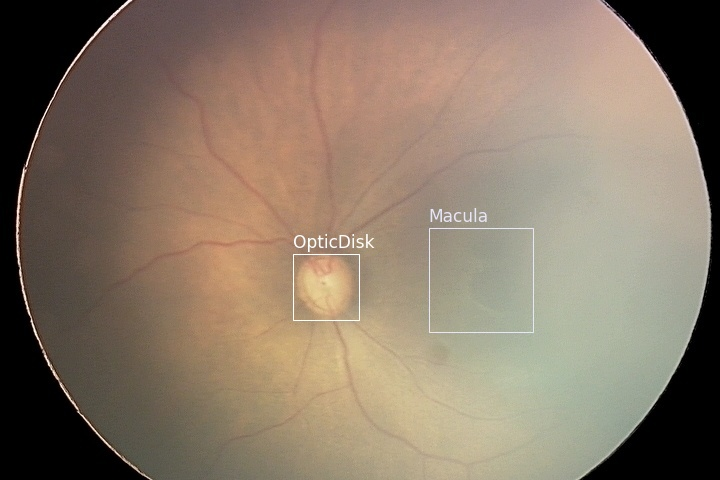Macula: (428, 227, 532, 331)
OpticDisk: (292, 253, 358, 319)
